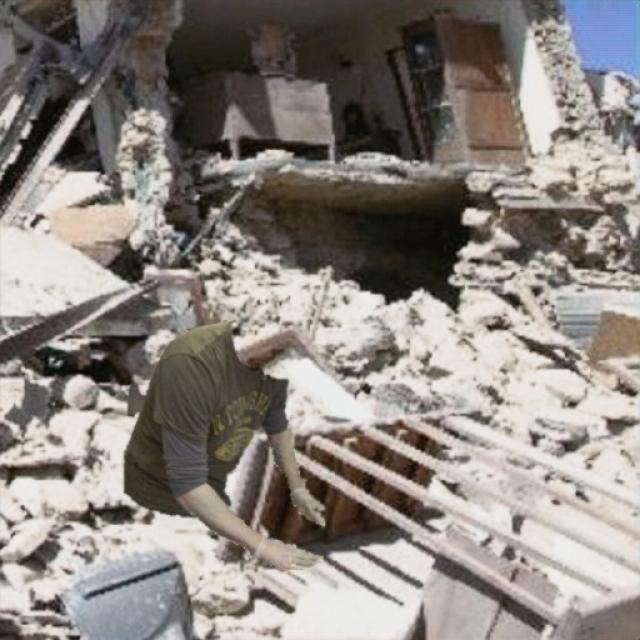Person in Rubble: (124, 320, 324, 569)
